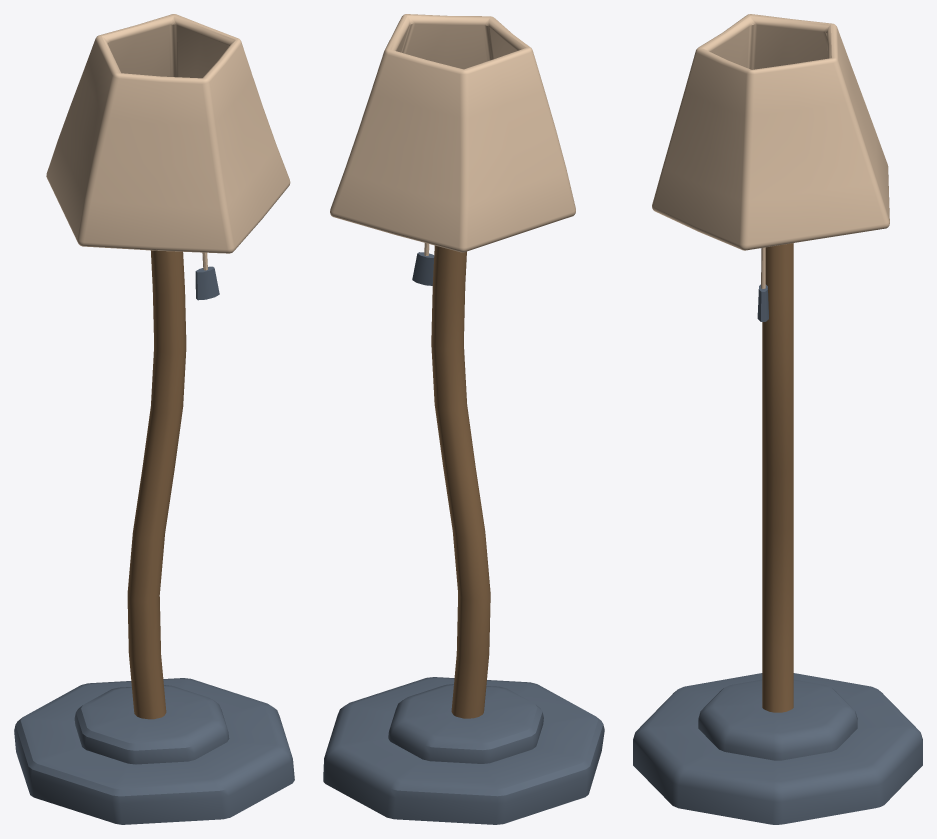
Rendered from Props_LampeLongue.fbx.
3 renders of one model, left to right at view 1: azimuth 30°, elevation 25°; view 2: azimuth 150°, elevation 25°; view 3: azimuth 270°, elevation 25°, orthographic.
Visible parts, largest first — view 1: LampeLongue.001; view 2: LampeLongue.001; view 3: LampeLongue.001.
Boxes of the visible parts, box(x1,y1,x2,y2) form: LampeLongue.001: box(14, 14, 294, 824); LampeLongue.001: box(323, 14, 604, 824); LampeLongue.001: box(633, 14, 922, 824).
Bounding box in the file's own units: 1.31 × 1.3 × 3.61.
